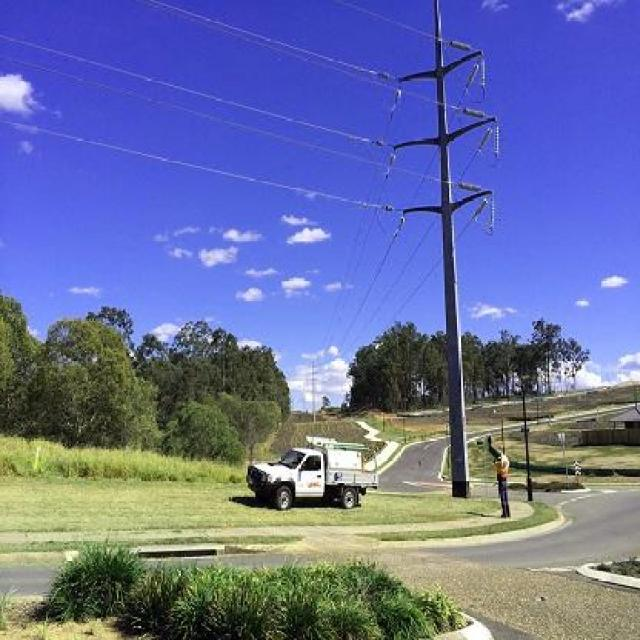pole: (368, 9, 514, 498)
